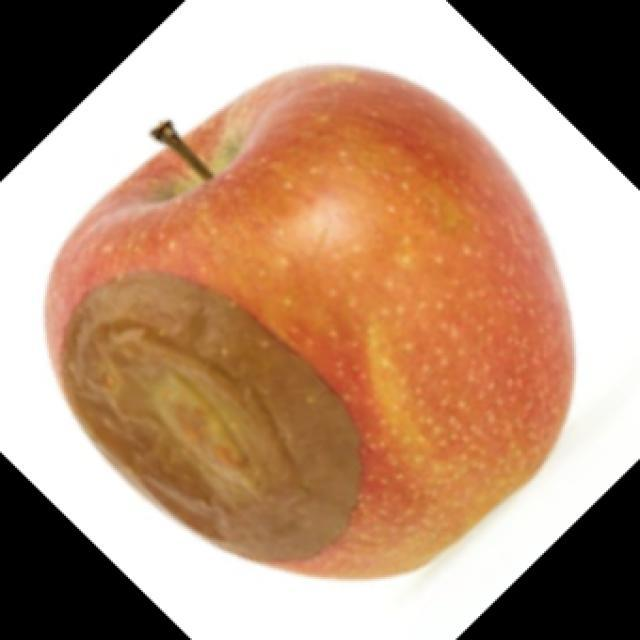Rotten: (89, 70, 574, 567)
